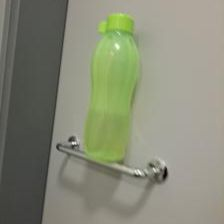bottle: (85, 12, 141, 165)
